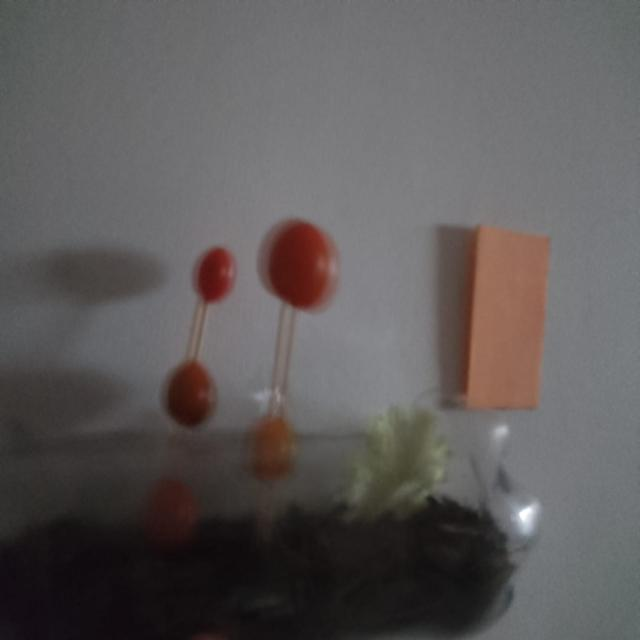card: (464, 226, 550, 407)
fruit_maturation: (252, 415, 295, 481)
fully_grown: (266, 220, 337, 310), (143, 477, 199, 550), (167, 360, 217, 427), (195, 247, 236, 303)
